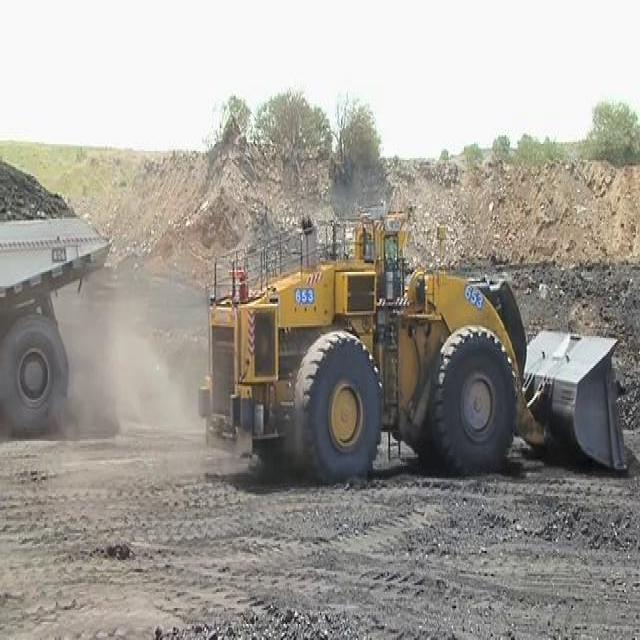Dump Truck: (0, 162, 113, 432)
Loader: (195, 194, 626, 505)
